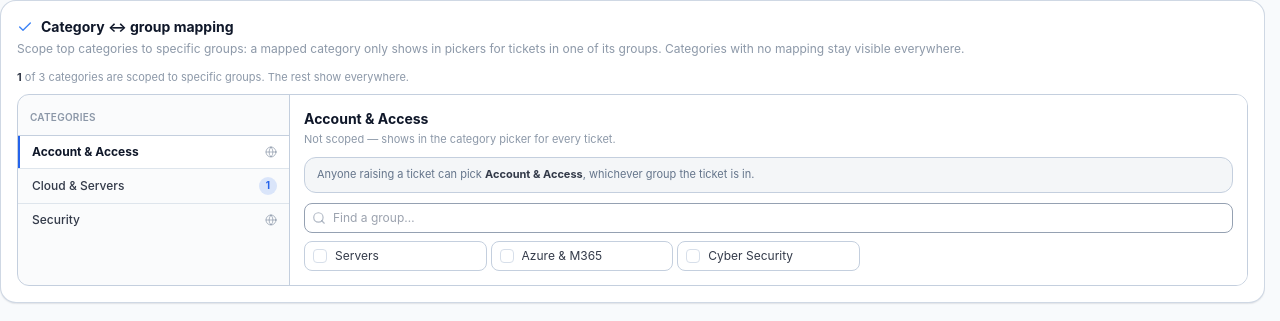
Test case: editing › search narrows the picker and says so when nothing matches
The image size is (1280, 321).
Expected: the list with test id "cgm-category-list" is shown, [18,136,289,285]
Type "azure" into the field named "Find a group to scope" at (768, 218), box [304,203,1233,233]
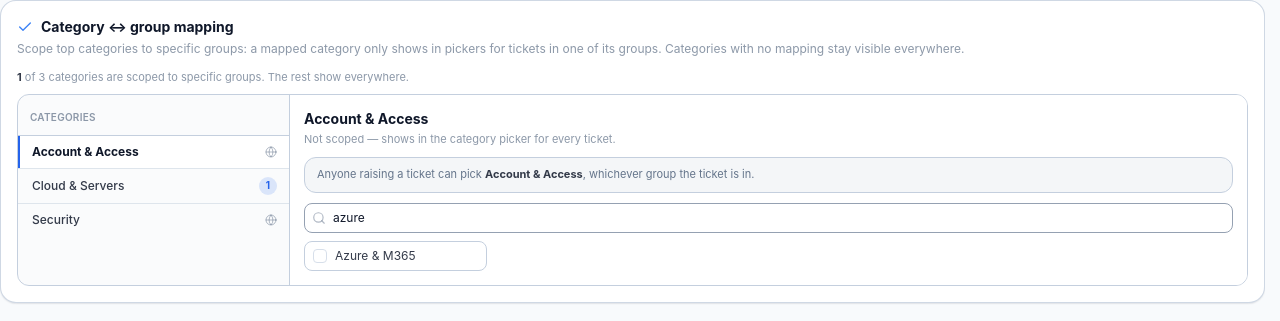
Expected: the text "Azure & M365" is shown, [335,248,416,264]
Replace the text in the field named "Find a group to scope" with "zzz" at (768, 218), box [304,203,1233,233]
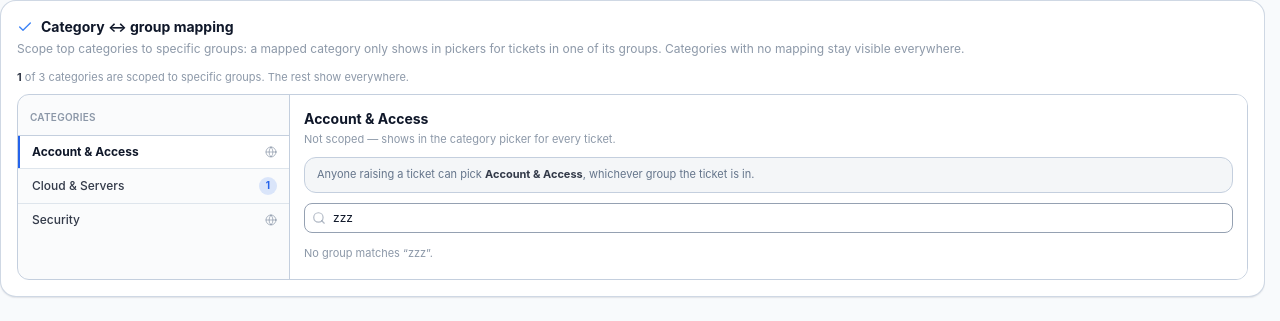
Result: the element with test id "cgm-group-picker" shows "No group matches" at [304,246,408,260]
